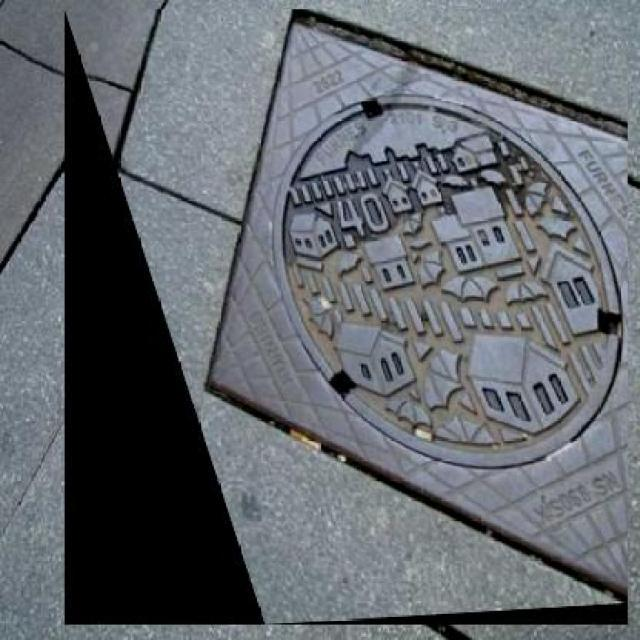Manhole: (65, 9, 628, 625)
